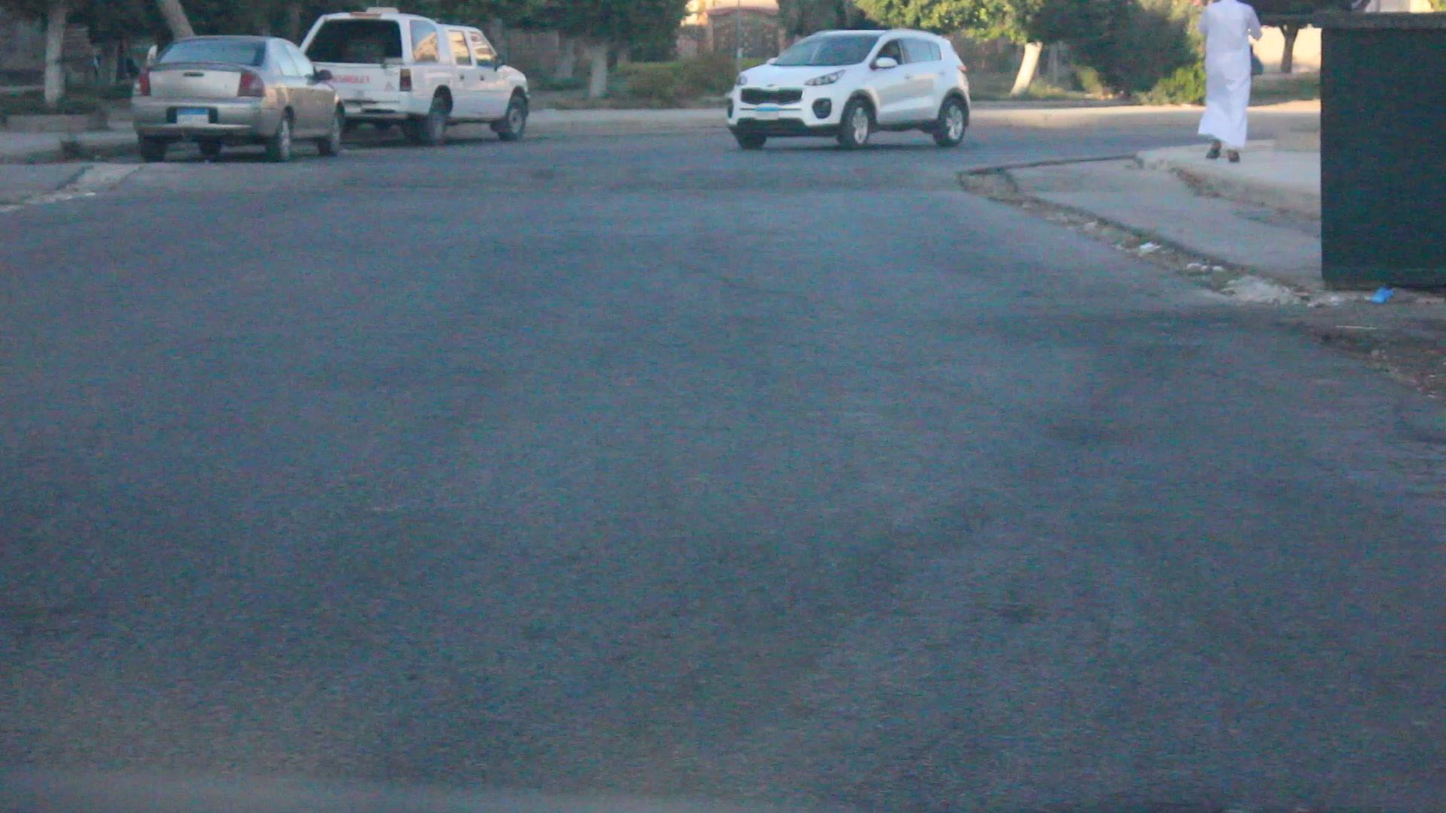Bump: (77, 152, 994, 199)
